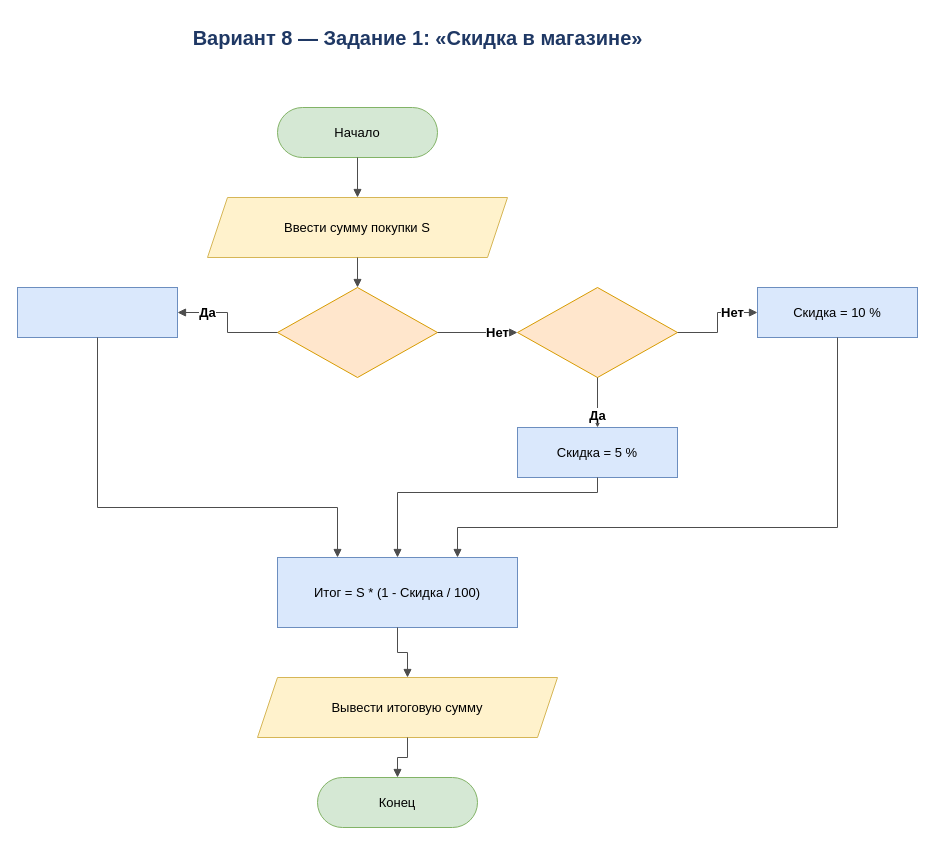
This 935x845 diagram has some shape labels left out. The centre of each missing label's shape, as x and y in pixels:
"S < 100 ?" belongs at pixel 597 332.
"S < 50 ?" belongs at pixel 357 332.
"Скидка = 0 %" belongs at pixel 97 312.
